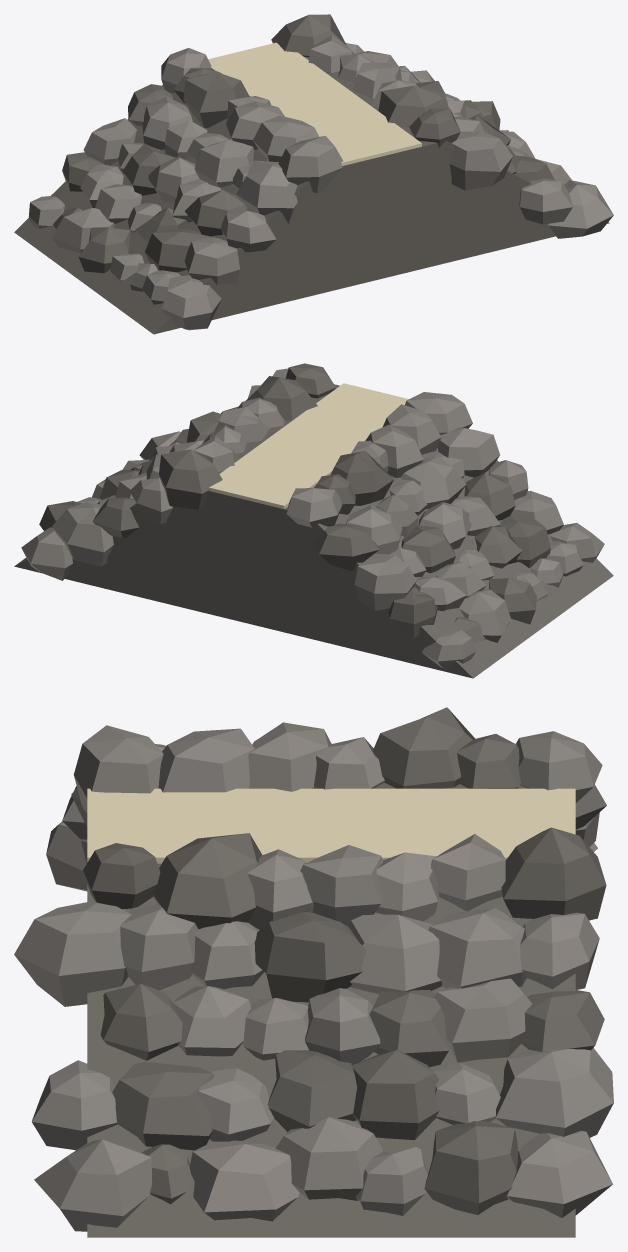
File: groyne_section.glb
3 renders of one model, top to bottom at view 1: azimuth 30°, elevation 25°; view 2: azimuth 150°, elevation 25°; view 3: azimuth 270°, elevation 25°, orthographic. The views are drawn at different scales.
Parts seen in each view (by area): view 1: GroyneSection; view 2: GroyneSection; view 3: GroyneSection.
Part boxes in pixels (x1=…): GroyneSection: x1=14, y1=14, x2=613, y2=334; GroyneSection: x1=14, y1=363, x2=613, y2=678; GroyneSection: x1=14, y1=707, x2=613, y2=1237.
Bounding box in the file's own units: 11.44 × 3.89 × 7.37.
